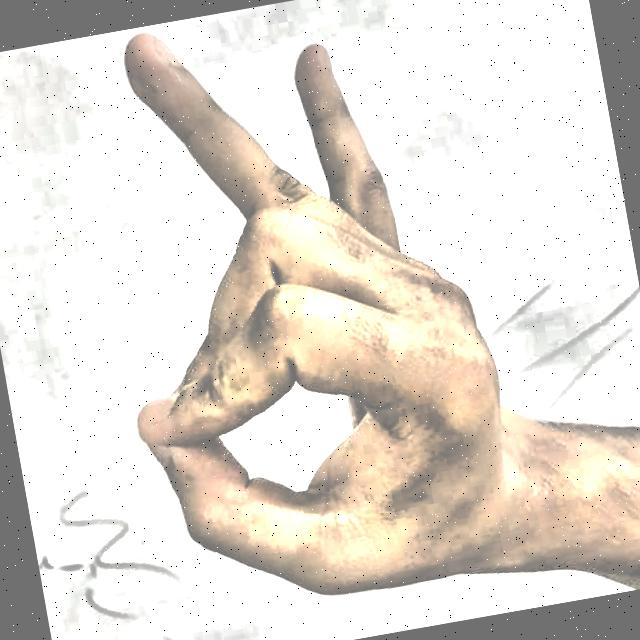Na: (26, 0, 591, 640)
